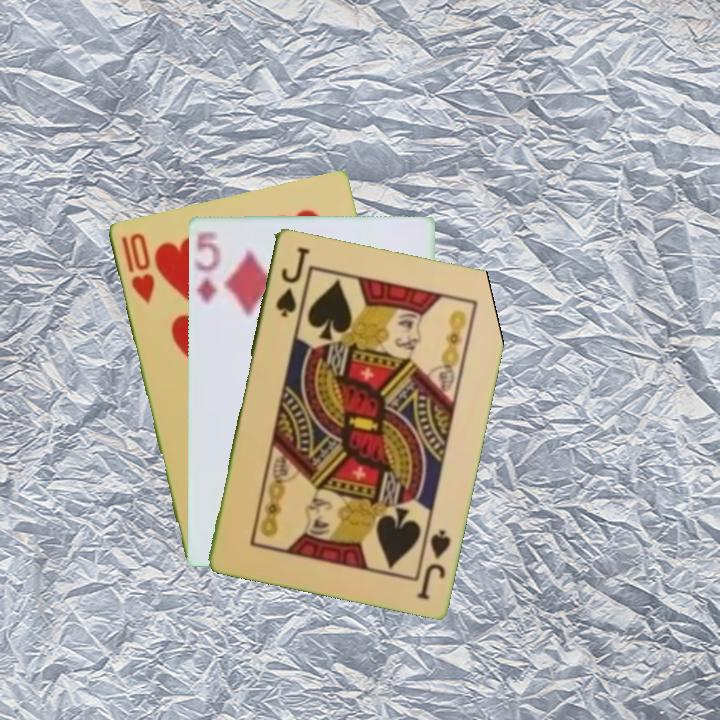10h: (117, 229, 157, 307)
5d: (191, 227, 223, 307)
Js: (413, 525, 453, 602), (272, 243, 310, 320)
